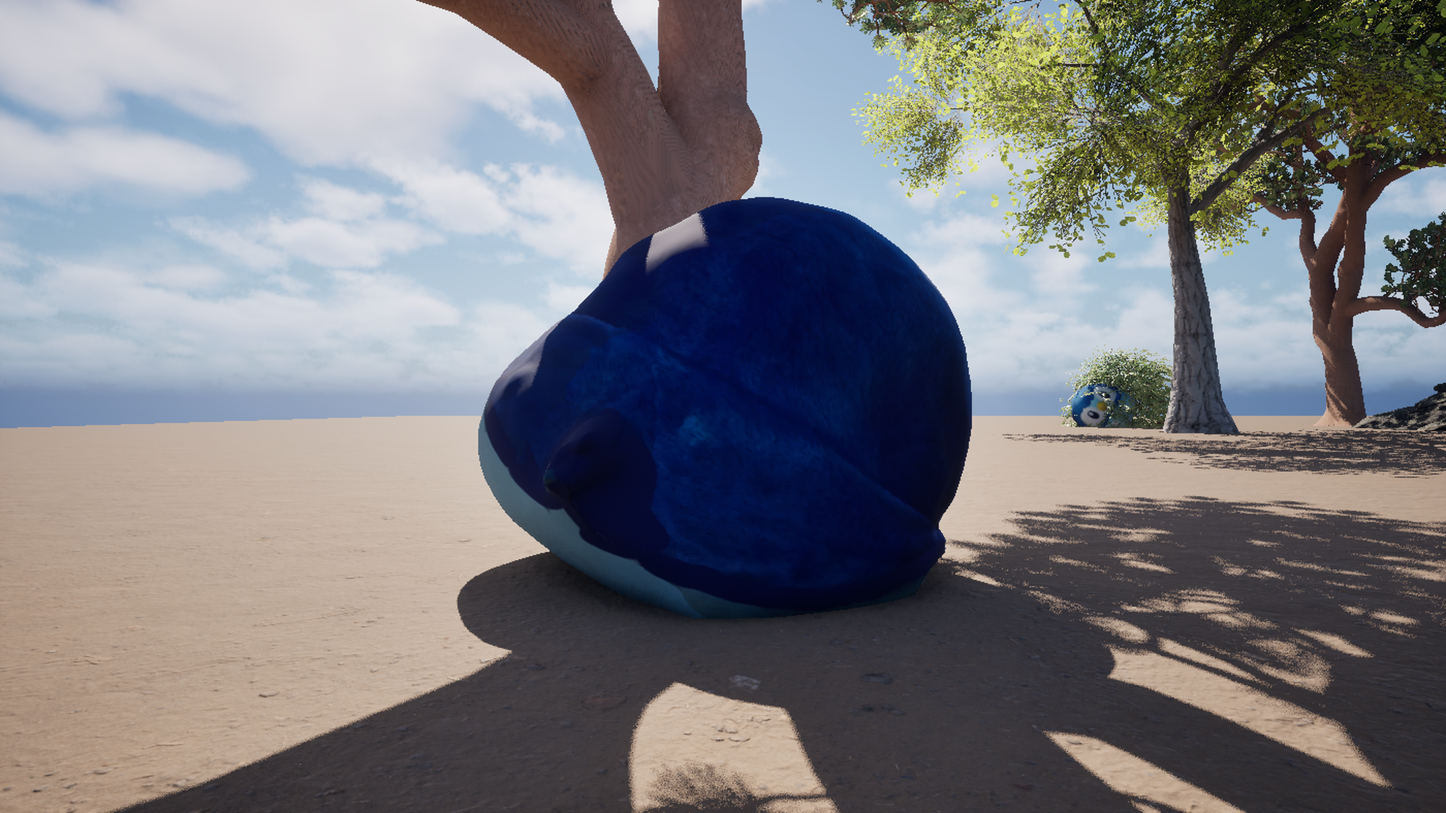Piplup: (48, 0, 1398, 813)
